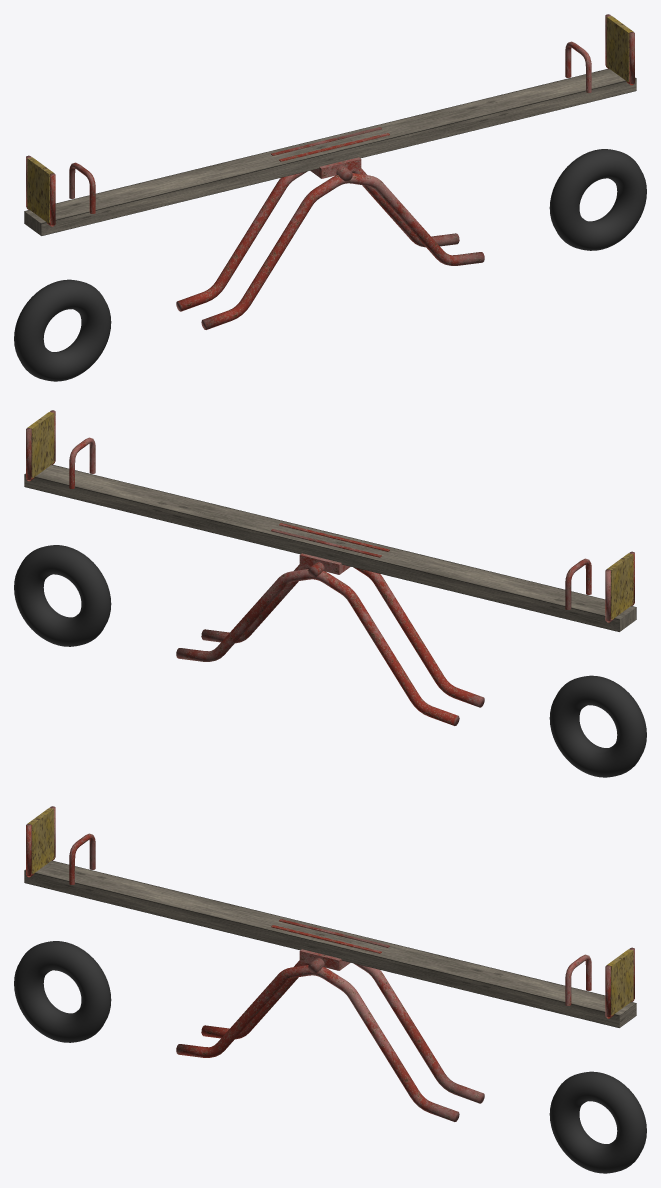
Rendered from playground_seesaw_web.glb.
The picture shows the model from 3 angles, top to bottom: view 1: azimuth 30°, elevation 25°; view 2: azimuth 150°, elevation 25°; view 3: azimuth 330°, elevation 25°; orthographic projection.
Parts seen in each view (by area): view 1: Seesaw_BeamMesh, Seesaw_Base; view 2: Seesaw_BeamMesh, Seesaw_Base; view 3: Seesaw_BeamMesh, Seesaw_Base.
Boxes of the visible parts, <box> form: Seesaw_BeamMesh: <box>24,14,636,235</box>; Seesaw_Base: <box>14,149,646,381</box>; Seesaw_BeamMesh: <box>24,410,636,631</box>; Seesaw_Base: <box>14,545,646,777</box>; Seesaw_BeamMesh: <box>24,806,636,1027</box>; Seesaw_Base: <box>14,941,646,1173</box>.
Size of the model in its own units: 3.17 by 1.06 by 0.2999.
Materials: 4 (3 with a texture image).
